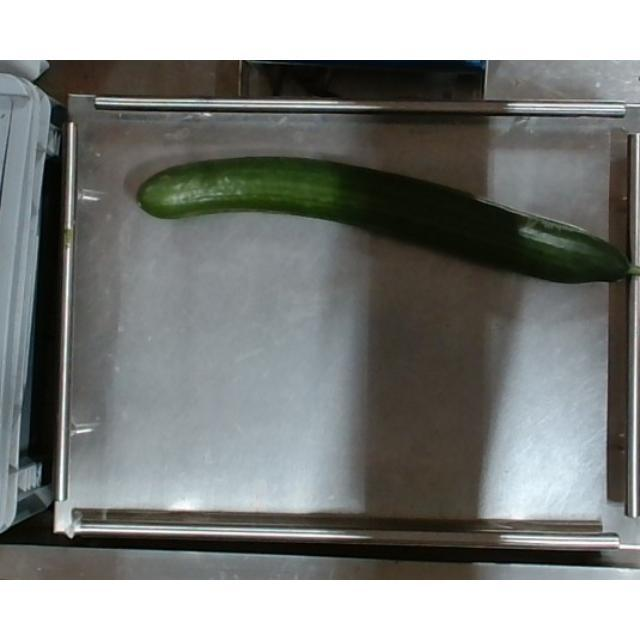cucumber: (132, 156, 640, 284)
